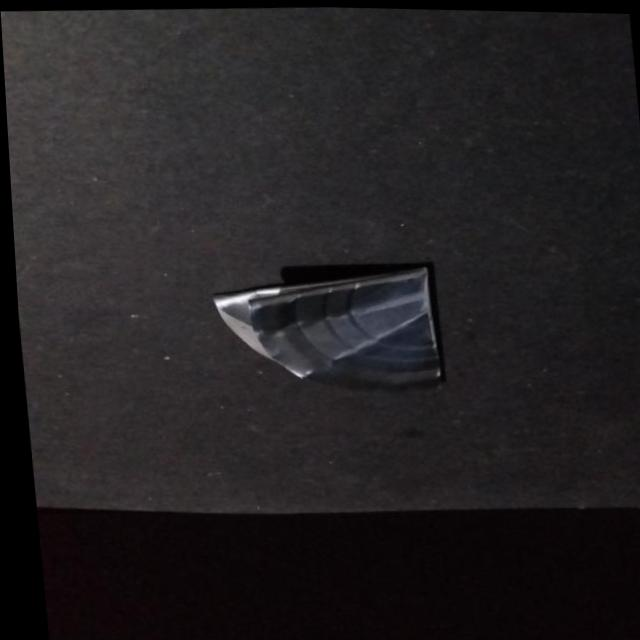metal: (214, 264, 441, 383)
